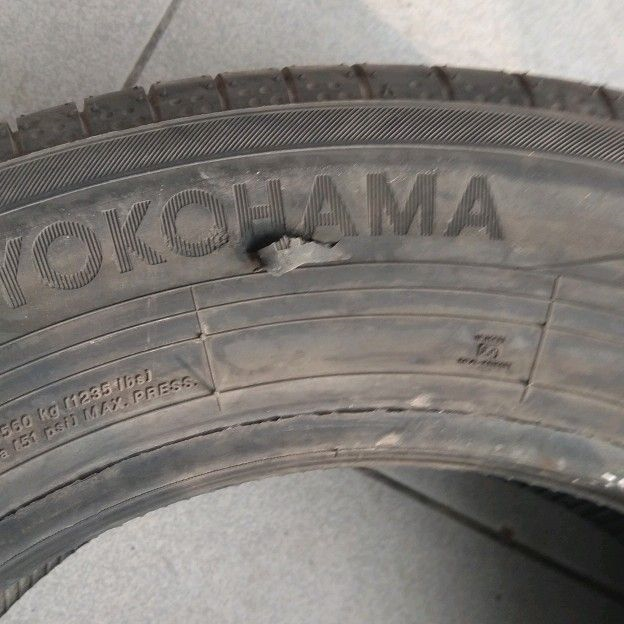cut: (249, 230, 342, 252)
